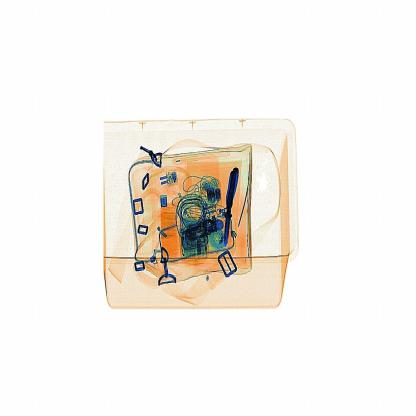gun: (223, 152, 242, 257)
